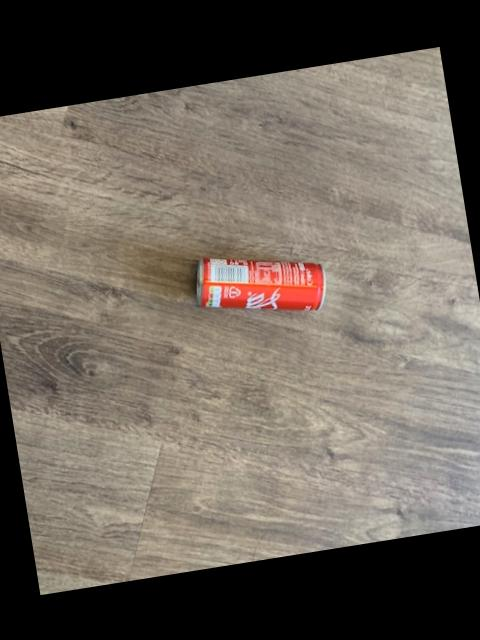metal: (195, 256, 324, 308)
